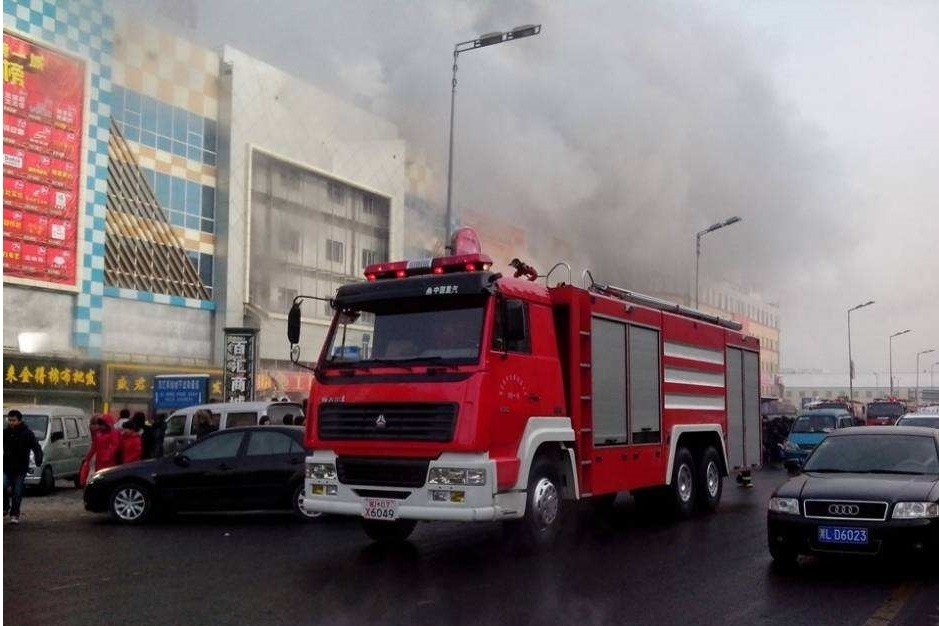family sedan: (73, 416, 305, 536), (759, 427, 939, 568)
fire engine: (295, 241, 780, 555)
